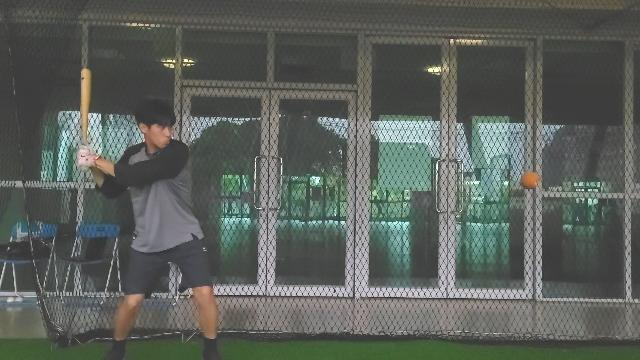bat: (78, 66, 92, 148)
